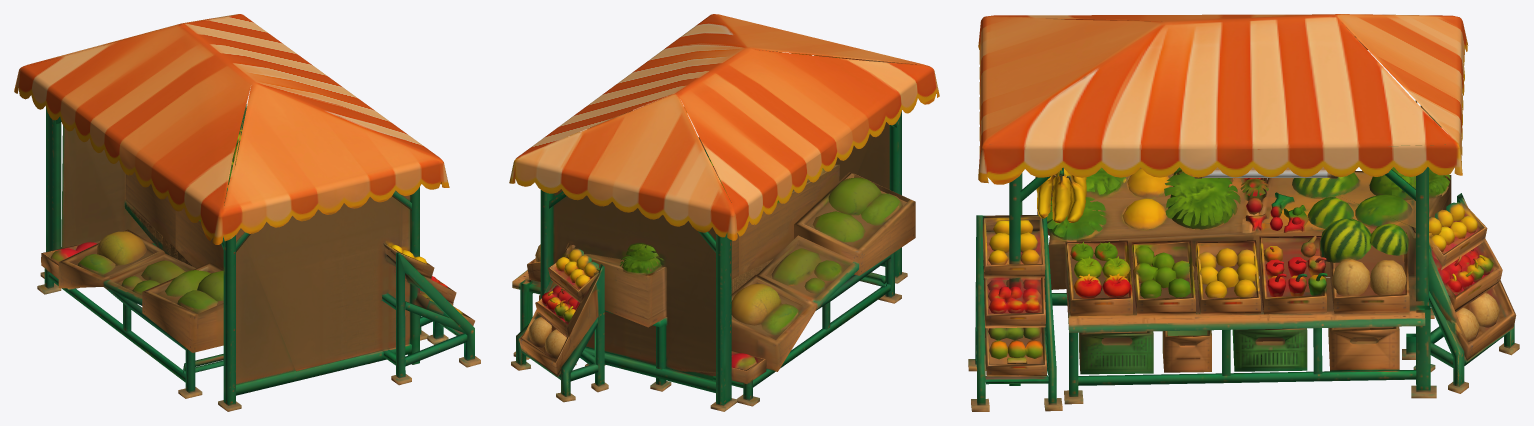
The model's file is tripo_convert_3e715fed-5c56-419f-8676-e533d3cec6ae.glb.
3 views of the same model, side by side, from view 1: azimuth 30°, elevation 25°; view 2: azimuth 150°, elevation 25°; view 3: azimuth 270°, elevation 25° (orthographic). The views are drawn at different scales.
Parts seen in each view (by area): view 1: tripo_node_3e715fed-5c56-419f-8676-e533d3cec6ae; view 2: tripo_node_3e715fed-5c56-419f-8676-e533d3cec6ae; view 3: tripo_node_3e715fed-5c56-419f-8676-e533d3cec6ae.
Boxes of the visible parts, x1,y1,x2,y2 form: tripo_node_3e715fed-5c56-419f-8676-e533d3cec6ae: (14, 14, 480, 411); tripo_node_3e715fed-5c56-419f-8676-e533d3cec6ae: (509, 14, 939, 411); tripo_node_3e715fed-5c56-419f-8676-e533d3cec6ae: (968, 14, 1519, 411).
Bounding box in the file's own units: 0.6528 × 0.6255 × 0.9995.
1 material, 1 textured.
